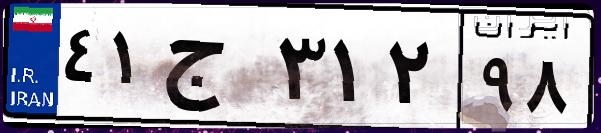1: (330, 28, 385, 110), (110, 28, 158, 98)
2: (385, 28, 445, 110)
3: (270, 28, 330, 110)
4: (57, 26, 110, 100)
8: (525, 38, 570, 115)
9: (475, 38, 525, 113)
ج: (158, 20, 270, 120)
